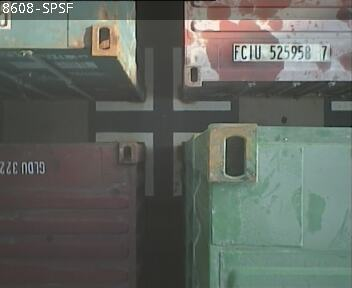groundmarker_1: (93, 46, 232, 112), (97, 131, 199, 197)
